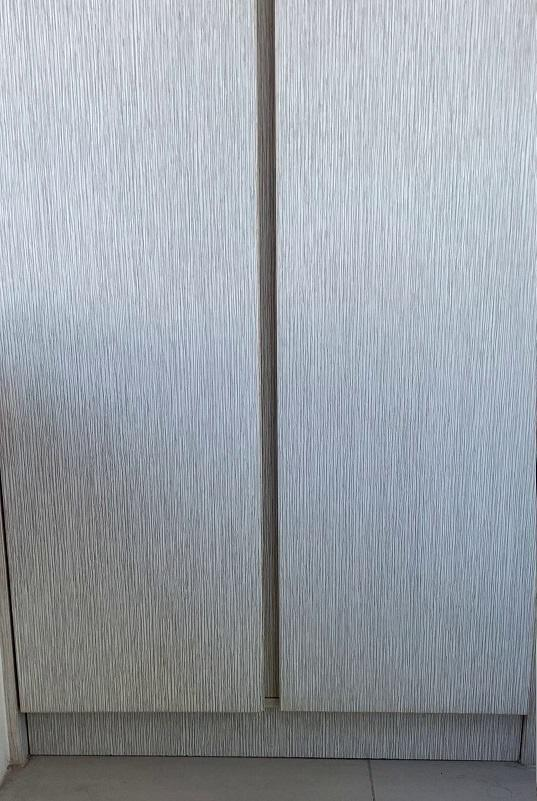Armario: (1, 3, 531, 773)
